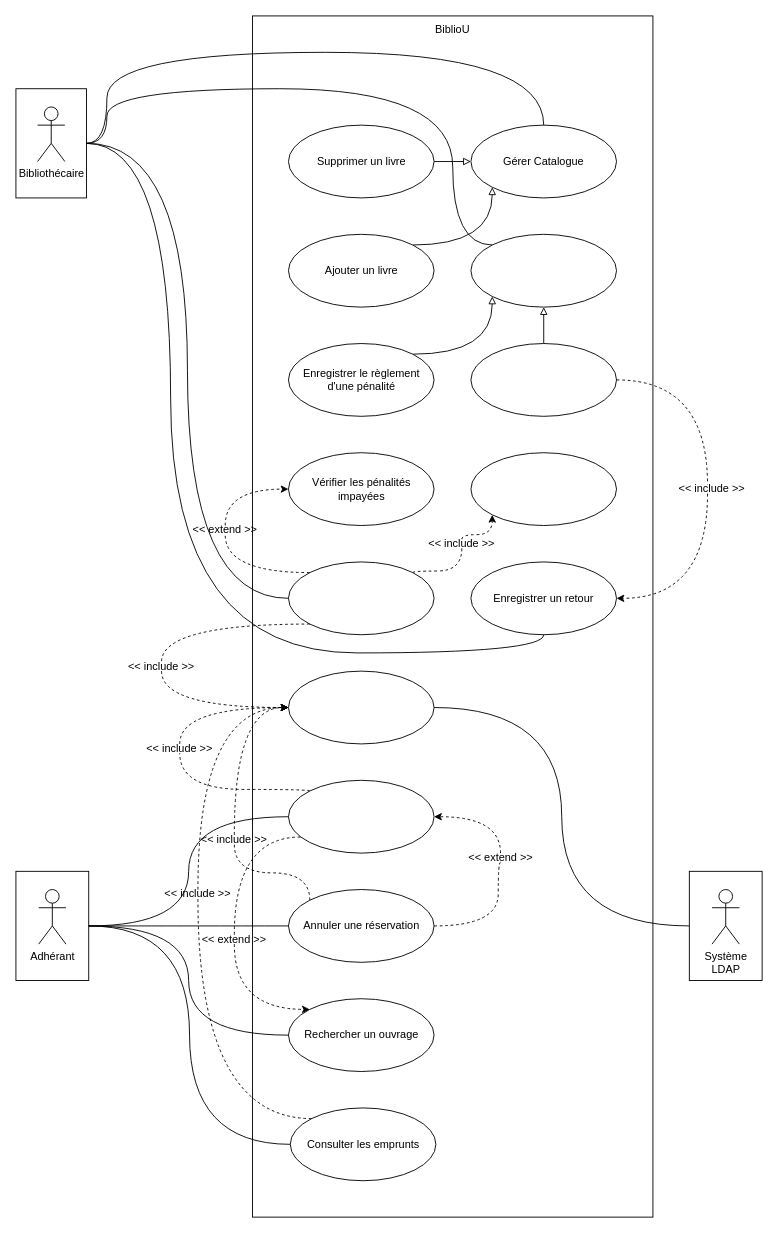
The diagram is 778 pixels wide and 1233 high, and some of its shapes have lost their labels. The shapes that lost their labels are listed below. From the top down, each one's box as (x1, y1, x2, y2) in pixels, then its label:
(470, 233, 617, 307): Gérer les pénalités de retard
(470, 343, 617, 416): Appliquer une pénalité
(470, 452, 617, 526): Vérifier le quota d'emprunt
(288, 561, 434, 635): Enregistrer un prêt
(288, 670, 434, 744): Authentifier l'adhérant - LDAP
(288, 779, 434, 853): Réserver un ouvrage indisponible
